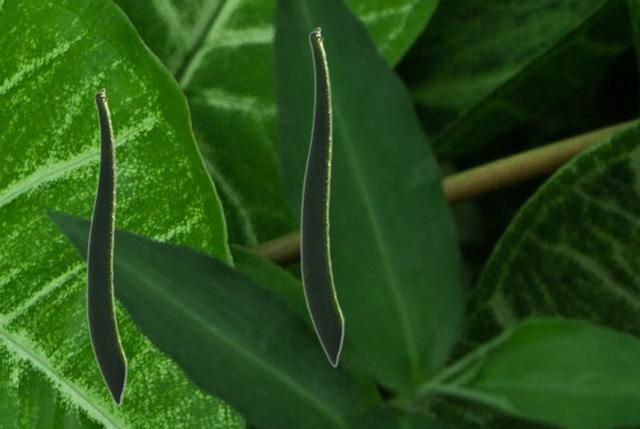french_bean: (299, 26, 344, 367), (85, 87, 127, 406)
